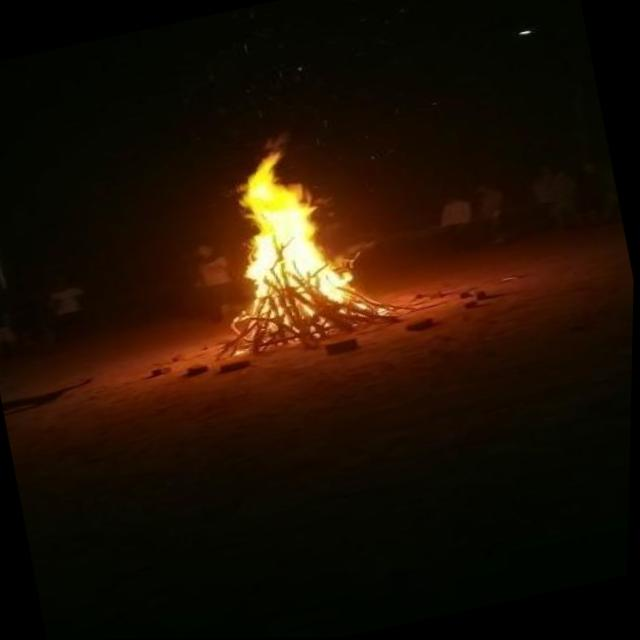fire: (182, 107, 397, 352)
